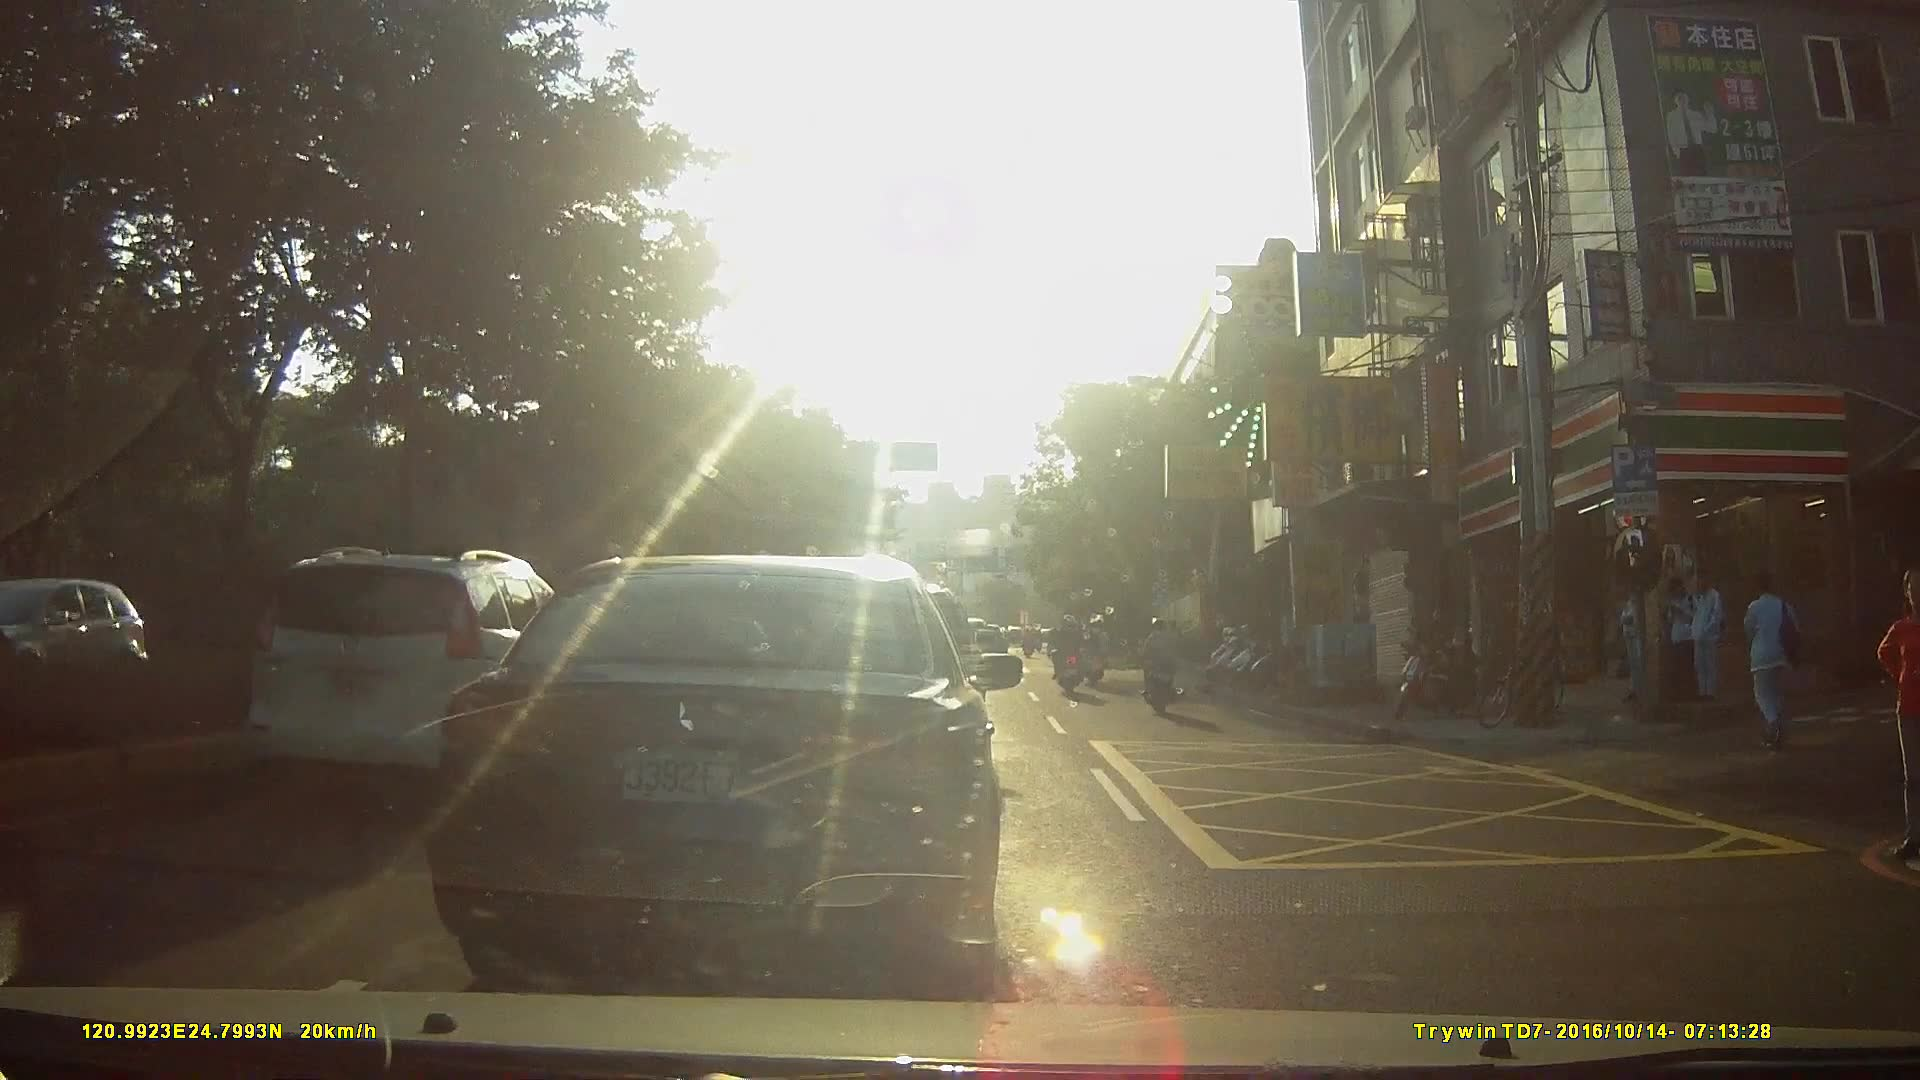pedestrian: (1876, 567, 1920, 854), (1743, 574, 1808, 756), (1680, 569, 1724, 703), (1614, 573, 1655, 708), (1659, 567, 1697, 710)
rider: (1137, 617, 1184, 716), (1048, 613, 1092, 699), (1085, 612, 1112, 684), (1020, 625, 1040, 659)
vehicle: (415, 549, 1033, 982), (197, 525, 578, 839), (1, 570, 147, 714)
